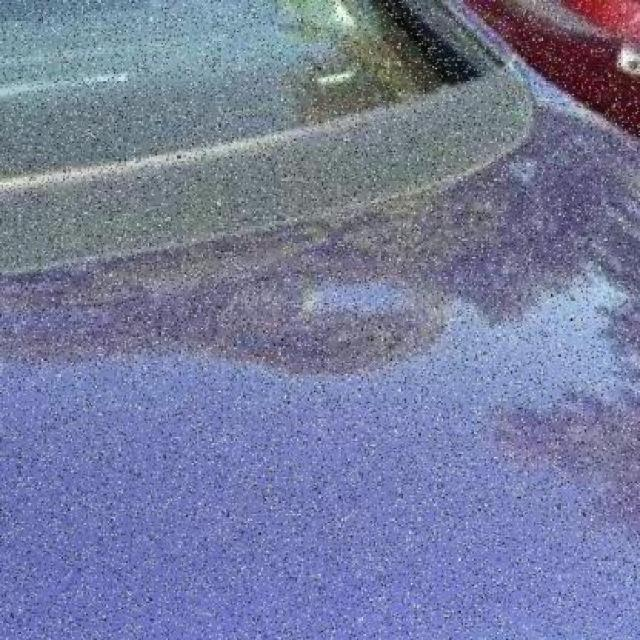bonnet-dent: (9, 169, 577, 637)
